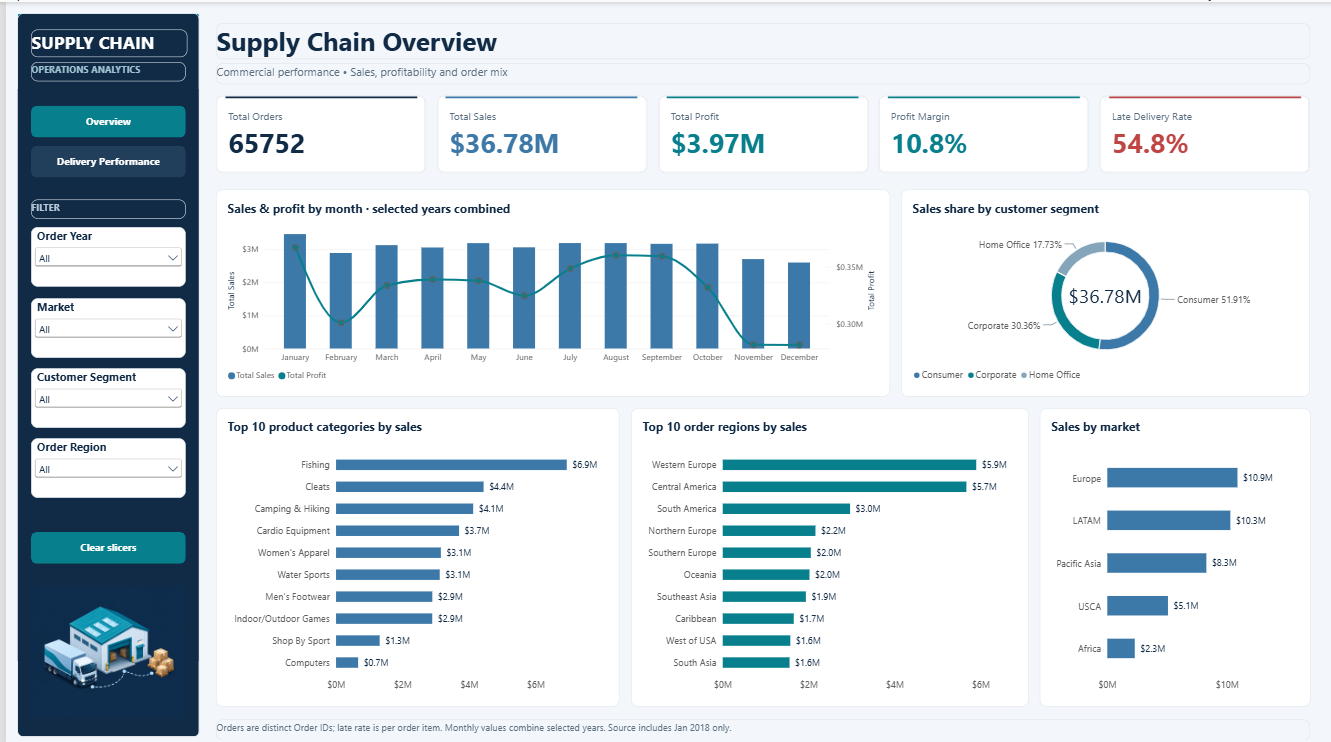

The page's visual inventory and layout, read from the dashboard file:
{"tool":"powerbi","page":{"name":"Supply Chain Overview","canvas":[1920,1080],"ordinal":0},"visuals":[{"type":"shape","box":[16,16,264,6],"z":0},{"type":"shape","box":[16,16,264,1048],"z":0},{"type":"textbox","box":[304,30,1584,52],"z":1000},{"type":"textbox","box":[36,40,226,40],"z":1000},{"type":"textbox","box":[36,86,224,28],"z":1000},{"type":"textbox","box":[304,88,1584,30],"z":1000},{"type":"cardVisual","fields":{"Data":["Supply_Chain.Total Orders"]},"box":[304,136,304,112],"z":1000},{"type":"cardVisual","fields":{"Data":["Supply_Chain.Total Sales"]},"box":[624,136,304,112],"z":1000},{"type":"cardVisual","fields":{"Data":["Supply_Chain.Total Profit"]},"box":[944,136,304,112],"z":1000},{"type":"cardVisual","fields":{"Data":["Supply_Chain.Profit Margin"]},"box":[1264,136,304,112],"z":1000},{"type":"cardVisual","fields":{"Data":["Supply_Chain.Late Delivery Rate"]},"box":[1584,136,304,112],"z":1000},{"type":"actionButton","box":[36,150,224,46],"z":1000},{"type":"actionButton","box":[36,208,224,46],"z":1000},{"type":"lineClusteredColumnComboChart","title":"Sales & profit by month · selected years combined","fields":{"Category":["Supply_Chain.Order Month"],"Y":["Supply_Chain.Total Sales"],"Y2":["Supply_Chain.Total Profit"]},"box":[304,272,976,300],"z":1000},{"type":"donutChart","title":"Sales share by customer segment","fields":{"Category":["Supply_Chain.Customer Segment"],"Y":["Supply_Chain.Total Sales"]},"box":[1296,272,592,300],"z":1000},{"type":"textbox","box":[36,286,224,28],"z":1000},{"type":"slicer","fields":{"Values":["Supply_Chain.Order Year"]},"box":[36,326,224,86],"z":1000},{"type":"slicer","fields":{"Values":["Supply_Chain.Market"]},"box":[36,428,224,86],"z":1000},{"type":"slicer","fields":{"Values":["Supply_Chain.Customer Segment"]},"box":[36,530,224,86],"z":1000},{"type":"clusteredBarChart","title":"Top 10 product categories by sales","fields":{"Category":["Supply_Chain.Category Name"],"Y":["Supply_Chain.Total Sales"]},"box":[304,588,584,432],"z":1000},{"type":"clusteredBarChart","title":"Top 10 order regions by sales","fields":{"Category":["Supply_Chain.Order Region"],"Y":["Supply_Chain.Total Sales"]},"box":[904,588,576,432],"z":1000},{"type":"clusteredBarChart","title":"Sales by market","fields":{"Category":["Supply_Chain.Market"],"Y":["Supply_Chain.Total Sales"]},"box":[1496,588,392,432],"z":1000},{"type":"slicer","fields":{"Values":["Supply_Chain.Order Region"]},"box":[36,632,224,86],"z":1000},{"type":"actionButton","box":[36,768,224,46],"z":1000},{"type":"image","box":[36,846,224,192],"z":1000},{"type":"textbox","box":[304,1038,1584,30],"z":1000},{"type":"shape","box":[316,136,280,5],"z":1001},{"type":"shape","box":[636,136,280,5],"z":1001},{"type":"shape","box":[956,136,280,5],"z":1001},{"type":"shape","box":[1276,136,280,5],"z":1001},{"type":"shape","box":[1596,136,280,5],"z":1001}]}

Visuals, with their boxes on the page's 1920x1080 design canvas (x1, y1, x2, y2). These are canvas units, not pixel positions in the 1331x742 screenshot, which may show the page scaled, cropped or inside an application window:
shape: region(16, 16, 280, 22)
shape: region(16, 16, 280, 1064)
textbox: region(304, 30, 1888, 82)
textbox: region(36, 40, 262, 80)
textbox: region(36, 86, 260, 114)
textbox: region(304, 88, 1888, 118)
cardVisual - Supply_Chain.Total Orders: region(304, 136, 608, 248)
cardVisual - Supply_Chain.Total Sales: region(624, 136, 928, 248)
cardVisual - Supply_Chain.Total Profit: region(944, 136, 1248, 248)
cardVisual - Supply_Chain.Profit Margin: region(1264, 136, 1568, 248)
cardVisual - Supply_Chain.Late Delivery Rate: region(1584, 136, 1888, 248)
actionButton: region(36, 150, 260, 196)
actionButton: region(36, 208, 260, 254)
"Sales & profit by month · selected years combined" lineClusteredColumnComboChart: region(304, 272, 1280, 572)
"Sales share by customer segment" donutChart: region(1296, 272, 1888, 572)
textbox: region(36, 286, 260, 314)
slicer - Supply_Chain.Order Year: region(36, 326, 260, 412)
slicer - Supply_Chain.Market: region(36, 428, 260, 514)
slicer - Supply_Chain.Customer Segment: region(36, 530, 260, 616)
"Top 10 product categories by sales" clusteredBarChart: region(304, 588, 888, 1020)
"Top 10 order regions by sales" clusteredBarChart: region(904, 588, 1480, 1020)
"Sales by market" clusteredBarChart: region(1496, 588, 1888, 1020)
slicer - Supply_Chain.Order Region: region(36, 632, 260, 718)
actionButton: region(36, 768, 260, 814)
image: region(36, 846, 260, 1038)
textbox: region(304, 1038, 1888, 1068)
shape: region(316, 136, 596, 141)
shape: region(636, 136, 916, 141)
shape: region(956, 136, 1236, 141)
shape: region(1276, 136, 1556, 141)
shape: region(1596, 136, 1876, 141)
